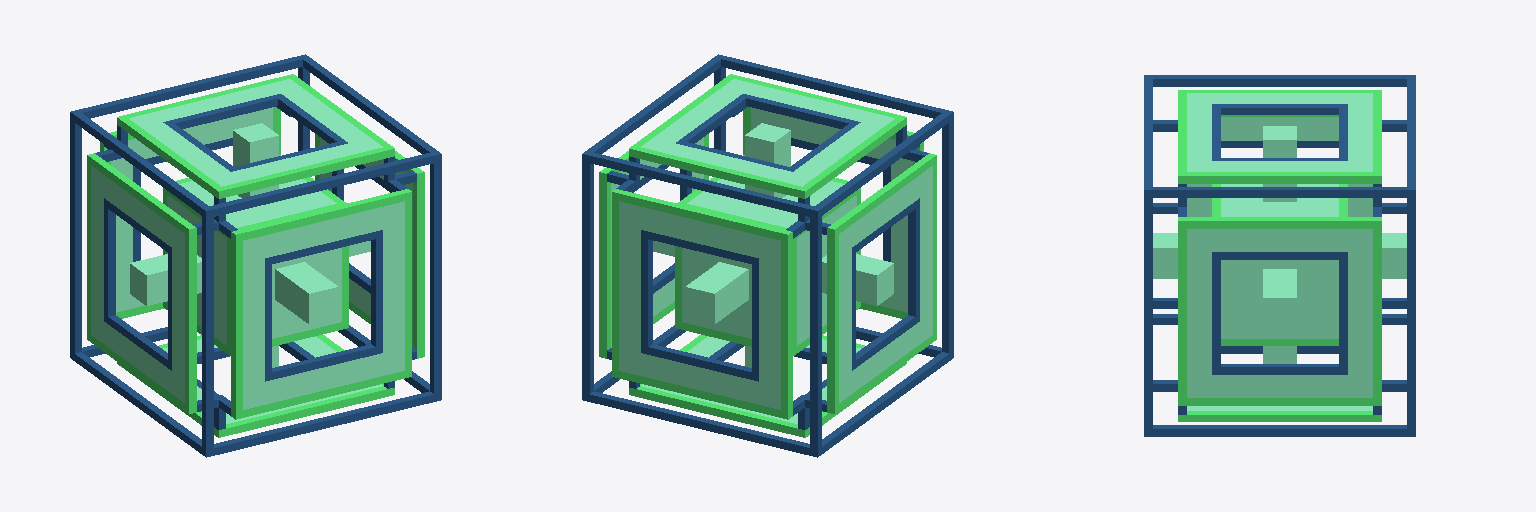
3 renders of one model, left to right at view 1: azimuth 30°, elevation 25°; view 2: azimuth 150°, elevation 25°; view 3: azimuth 270°, elevation 25°, orthographic.
Size of the model in its own units: 32 by 32 by 32.
Materials: 1 (1 with a texture image).